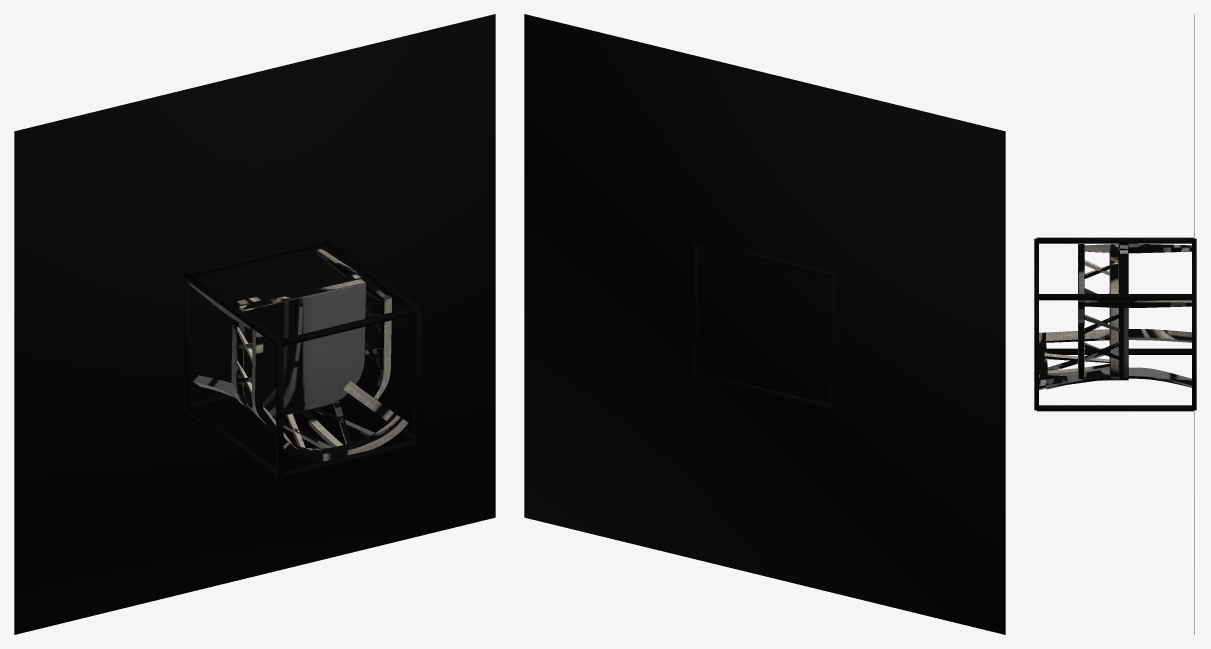
The picture shows the model from 3 angles, left to right: view 1: azimuth 30°, elevation 25°; view 2: azimuth 150°, elevation 25°; view 3: azimuth 270°, elevation 25°; orthographic projection. The views are drawn at different scales.
Bounding box in the file's own units: 2 × 2 × 0.6935.
